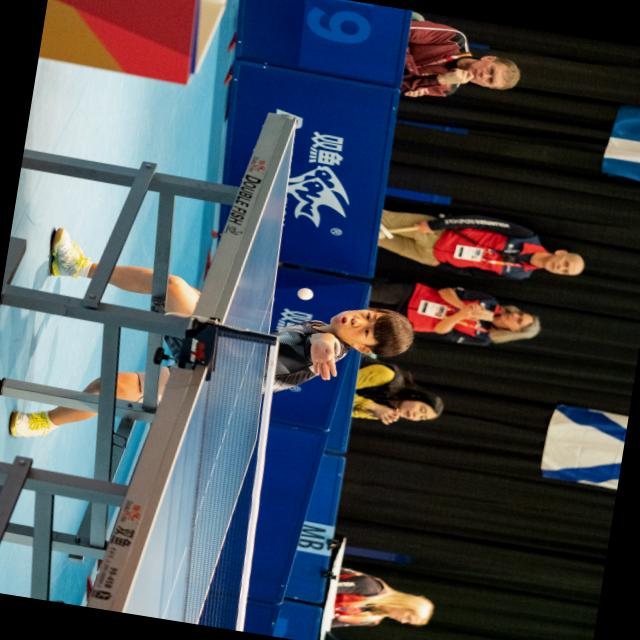TT Net: (177, 321, 280, 633)
TT Table: (121, 122, 367, 634)
